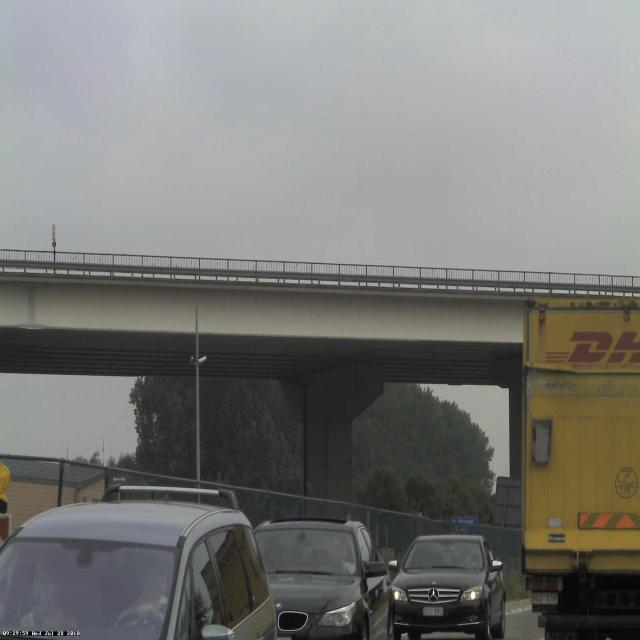other: (516, 281, 638, 582)
